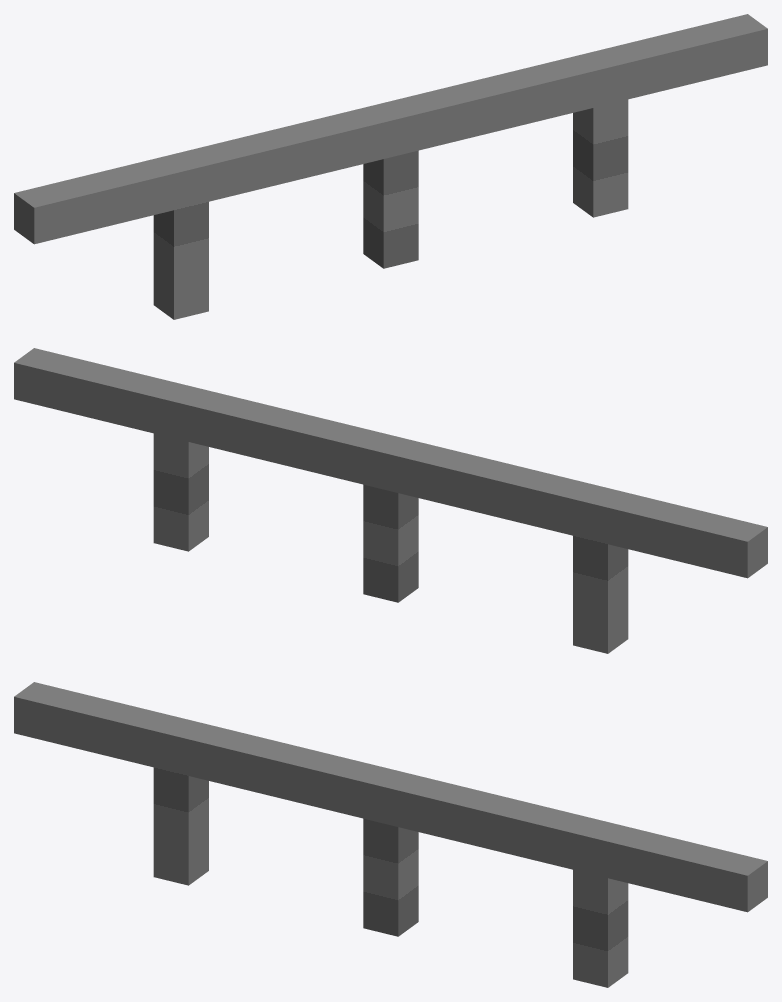
The model's file is skaterail.obj.
The picture shows the model from 3 angles, top to bottom: view 1: azimuth 30°, elevation 25°; view 2: azimuth 150°, elevation 25°; view 3: azimuth 330°, elevation 25°; orthographic projection.
Parts seen in each view (by area): view 1: Box_35; view 2: Box_35; view 3: Box_35.
Part boxes in pixels (x1=…): Box_35: x1=14, y1=14, x2=767, y2=319; Box_35: x1=14, y1=348, x2=767, y2=653; Box_35: x1=14, y1=682, x2=767, y2=987.
Bounding box in the file's own units: 21 × 4 × 1.
Materials: 1 (1 with a texture image).
